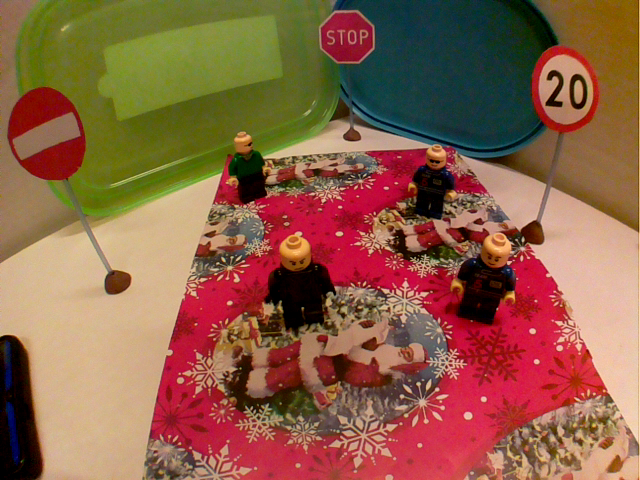Ograniczenie 20: (526, 42, 604, 136)
Postac LEGO: (263, 232, 341, 333), (447, 223, 520, 329), (405, 141, 460, 222), (223, 126, 274, 205)
Stop: (315, 6, 377, 67)
Zakaz: (5, 81, 90, 186)
